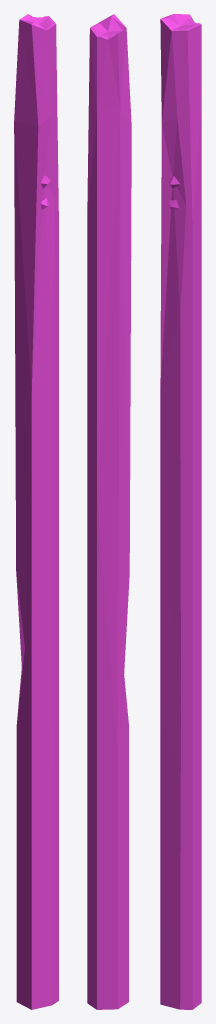
File: SM_Pier_Pillar_Fantasy.fbx
3 renders of one model, left to right at view 1: azimuth 30°, elevation 25°; view 2: azimuth 210°, elevation 25°; view 3: azimuth 330°, elevation 25°, orthographic.
Parts seen in each view (by area): view 1: SM_Pier_Pillar_Fantasy; view 2: SM_Pier_Pillar_Fantasy; view 3: SM_Pier_Pillar_Fantasy.
Boxes of the visible parts, box(x1,y1,x2,y2) form: SM_Pier_Pillar_Fantasy: box(14, 14, 58, 1009); SM_Pier_Pillar_Fantasy: box(87, 14, 131, 1009); SM_Pier_Pillar_Fantasy: box(160, 14, 201, 1009).
Bounding box in the file's own units: 0.253 × 6.93 × 0.2508.
